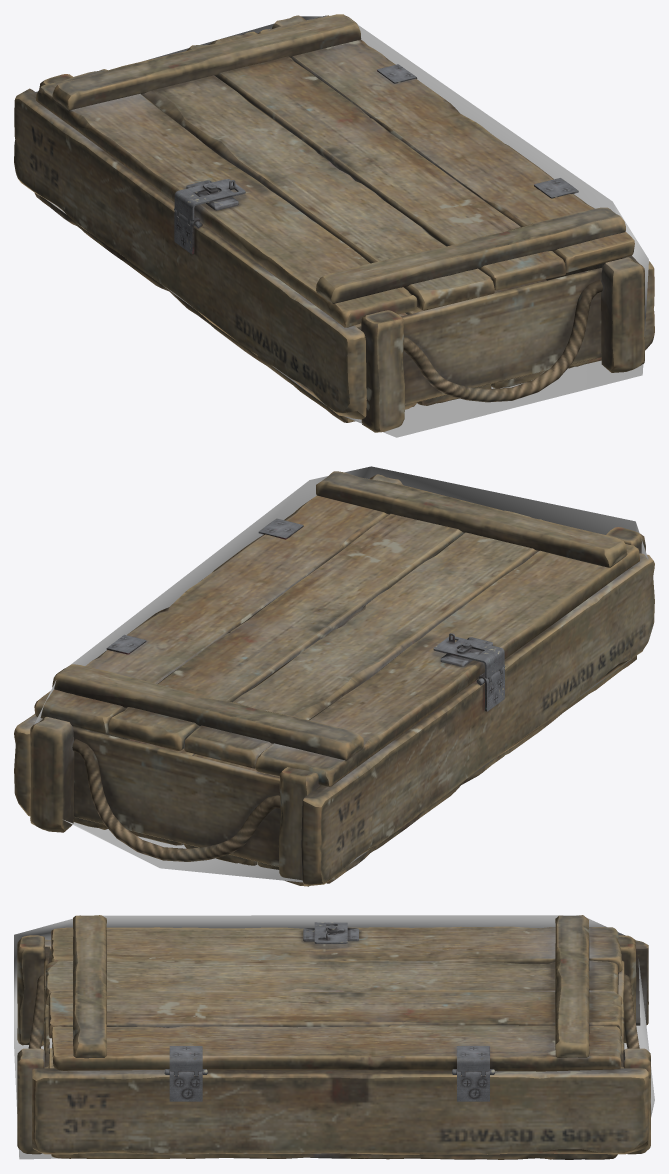
The model's file is SM_Chest_02.gltf.
3 views of the same model, one above another, from view 1: azimuth 30°, elevation 25°; view 2: azimuth 150°, elevation 25°; view 3: azimuth 270°, elevation 25° (orthographic). The views are drawn at different scales.
Parts seen in each view (by area): view 1: SM_Chest_02_LOD0, SM_Chest_02_ConvexHulls; view 2: SM_Chest_02_LOD0, SM_Chest_02_ConvexHulls; view 3: SM_Chest_02_LOD0, SM_Chest_02_ConvexHulls.
Part boxes in pixels (bbox=[...]): SM_Chest_02_LOD0: bbox=[14, 14, 654, 432]; SM_Chest_02_ConvexHulls: bbox=[27, 16, 648, 437]; SM_Chest_02_LOD0: bbox=[14, 471, 654, 886]; SM_Chest_02_ConvexHulls: bbox=[34, 466, 648, 882]; SM_Chest_02_LOD0: bbox=[17, 915, 650, 1159]; SM_Chest_02_ConvexHulls: bbox=[14, 915, 654, 1159].
Size of what is drawn, in the model's own units: 0.6348 by 0.2606 by 1.24.
